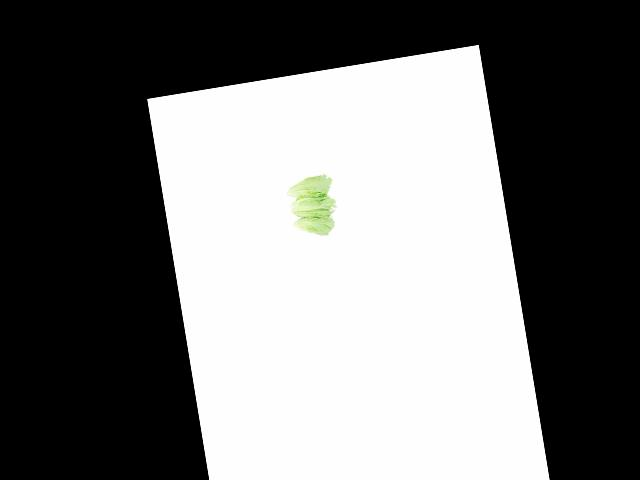lettuce: (282, 209, 337, 242)
